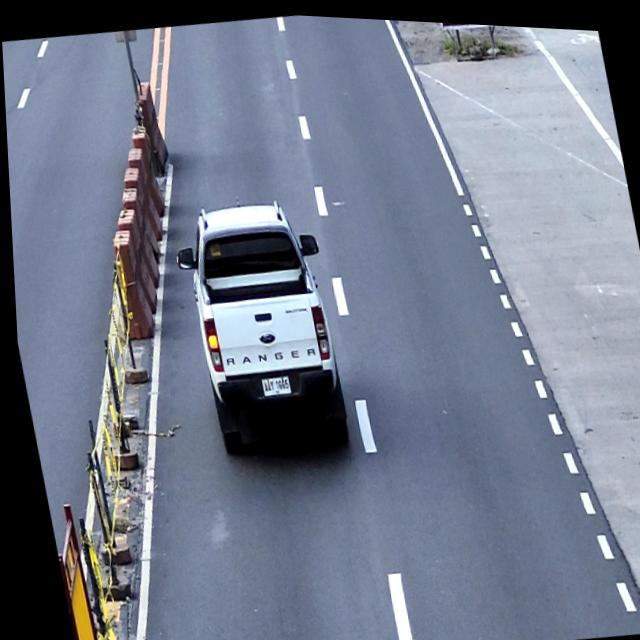Car: (166, 189, 354, 464)
License-Plate: (256, 371, 287, 395)
